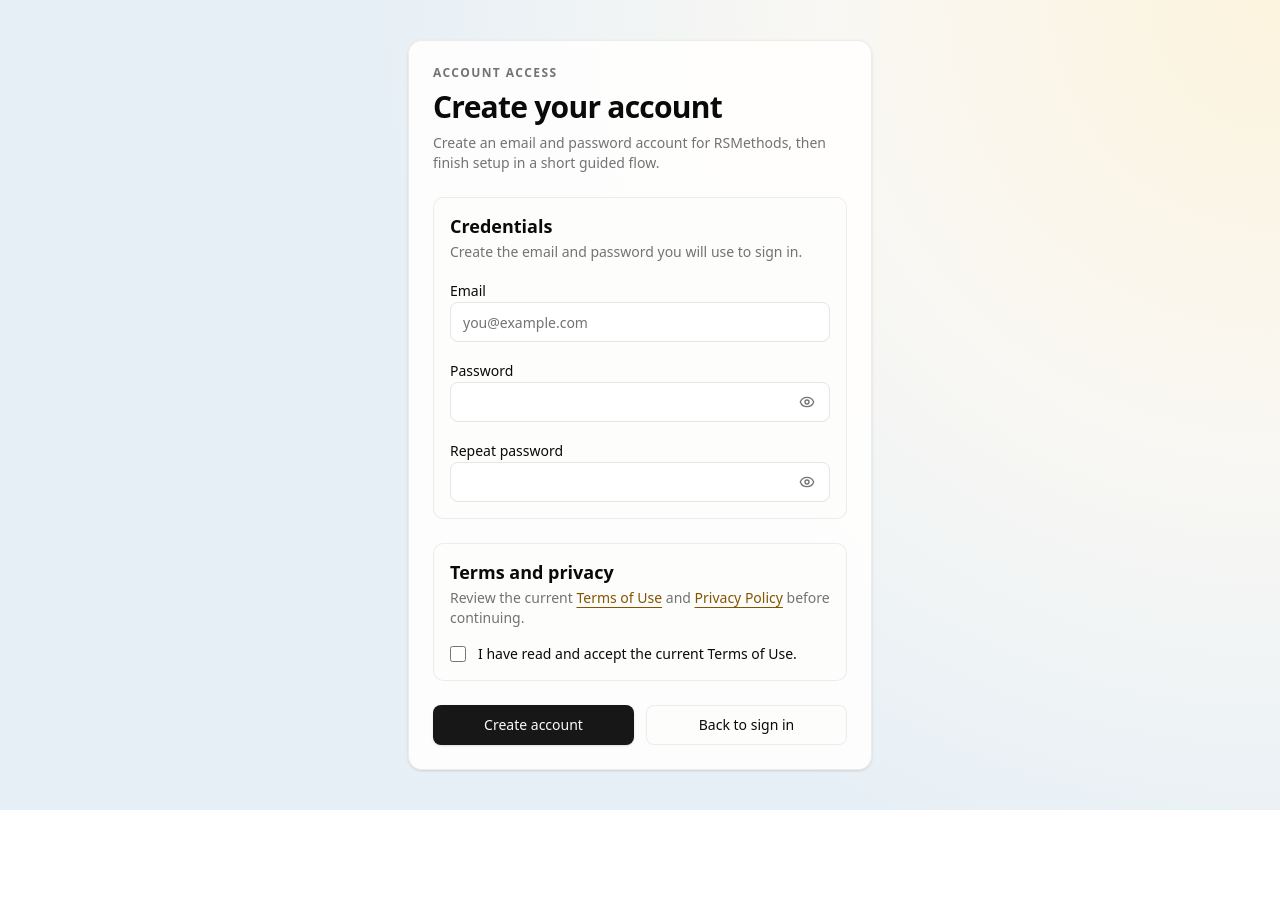
Scenario: CreateAccountPage › shows an email confirmation message when signup requires confirmation
Type "user@example.com" into the field labelled "Email". click: {"x": 640, "y": 322}
box: [450,302,830,342]
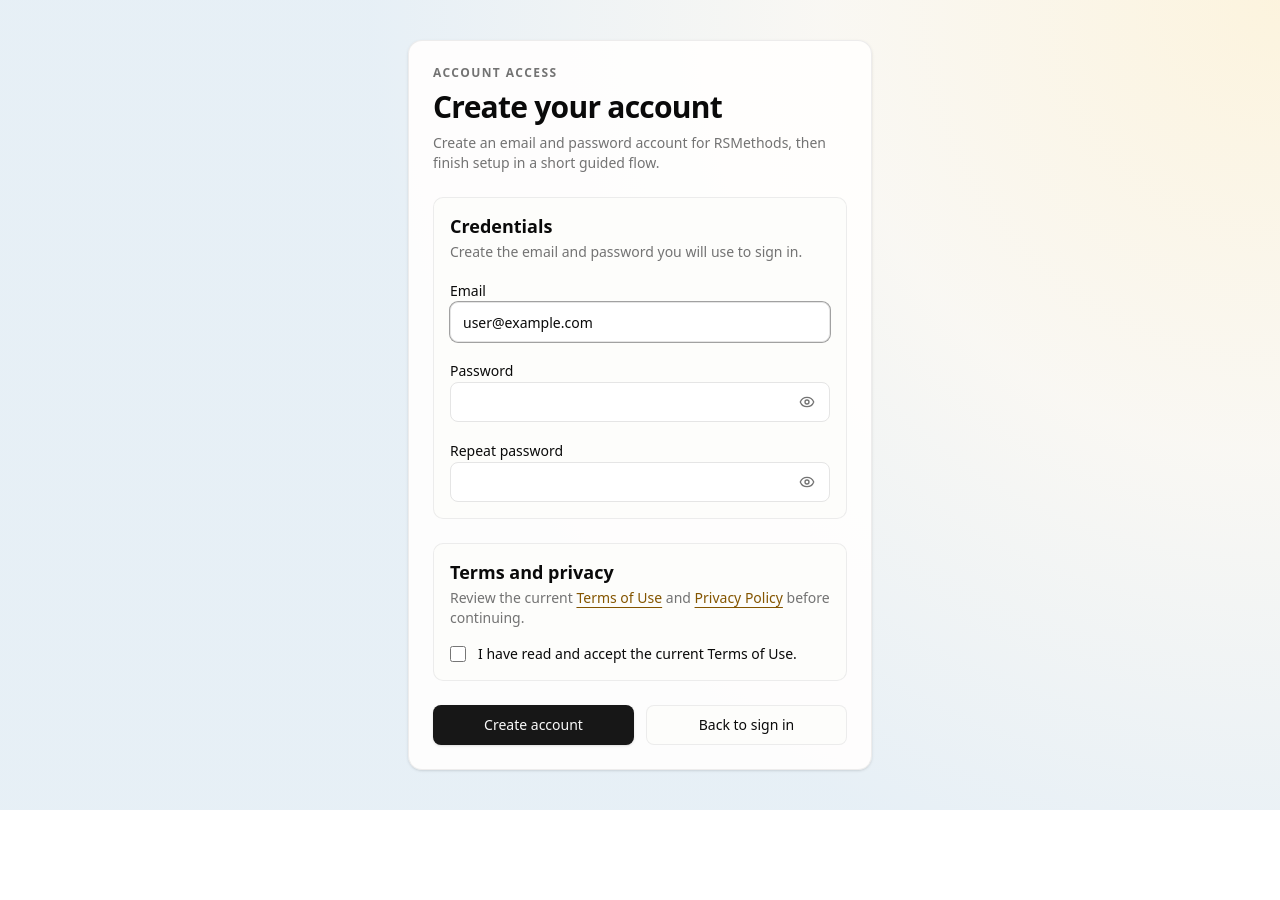
Type "password123" into the password field labelled "Password". click: {"x": 621, "y": 402}
box: [451,382,791,422]
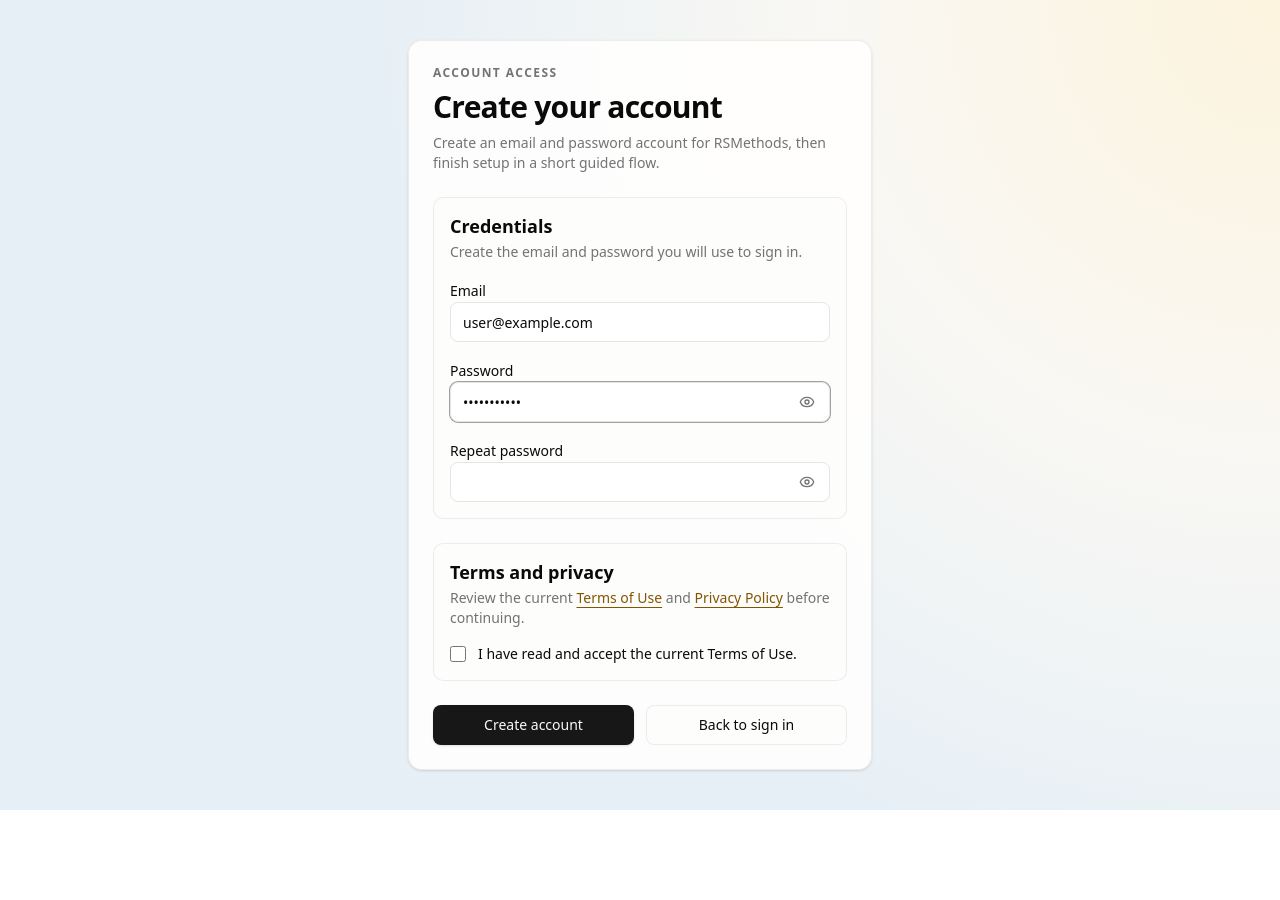
Type "password123" into the password field labelled "Repeat password". click: {"x": 621, "y": 482}
box: [451,462,791,502]
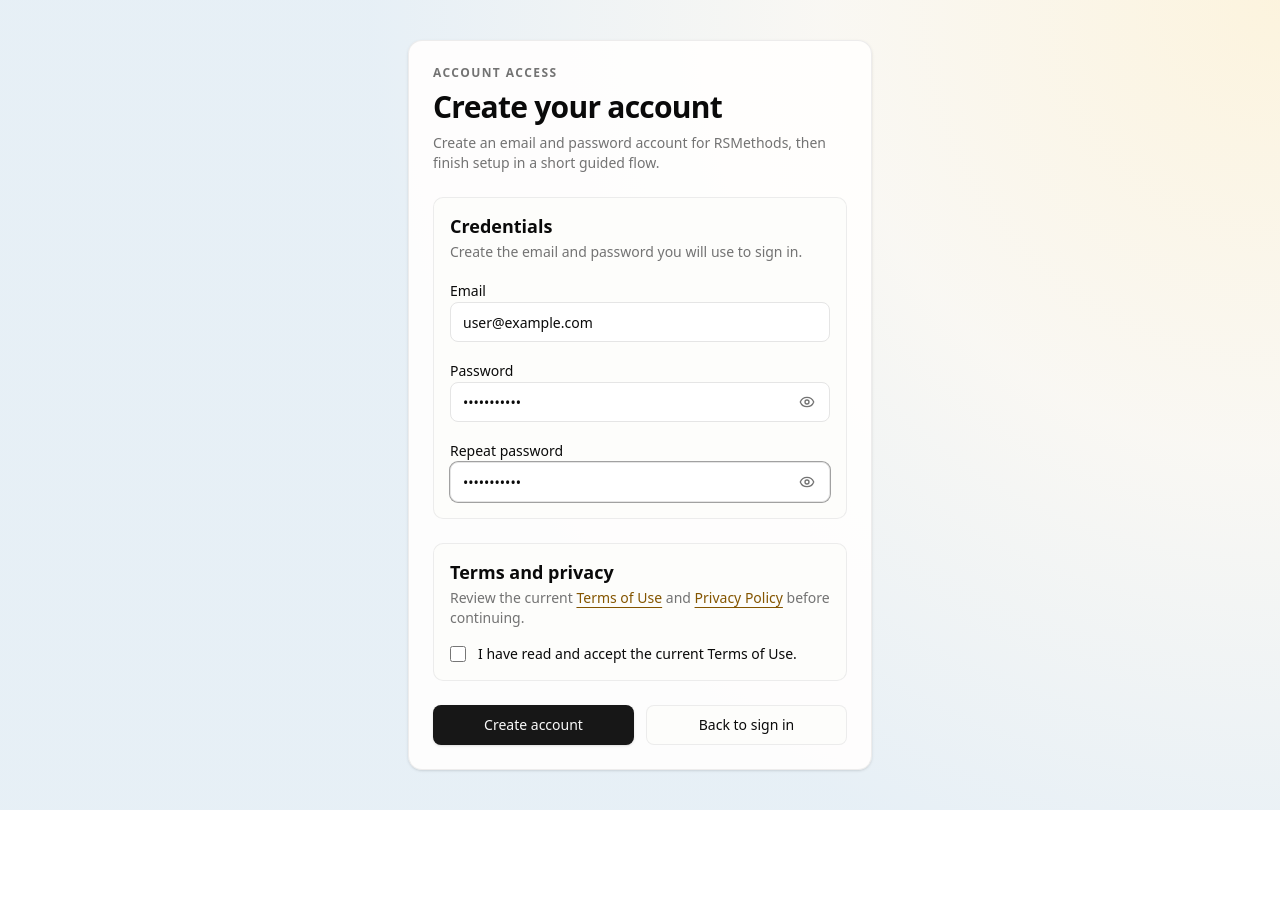
Click the checkbox labelled "I have read and accept the current Terms of Use.". click: {"x": 458, "y": 654}
box: [450,646,466,662]
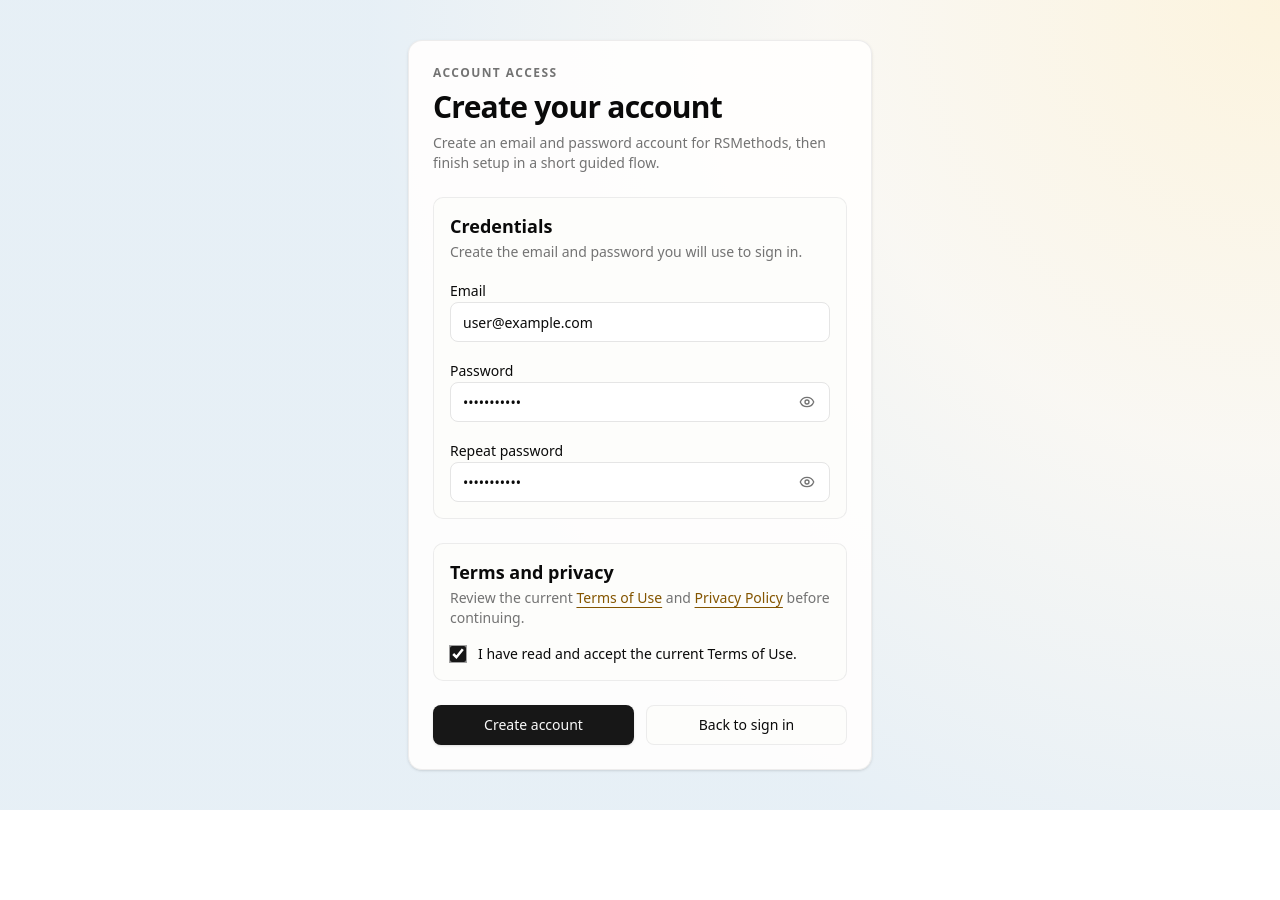
Click the button "Create account". click: {"x": 534, "y": 725}
box: [433,705,634,745]
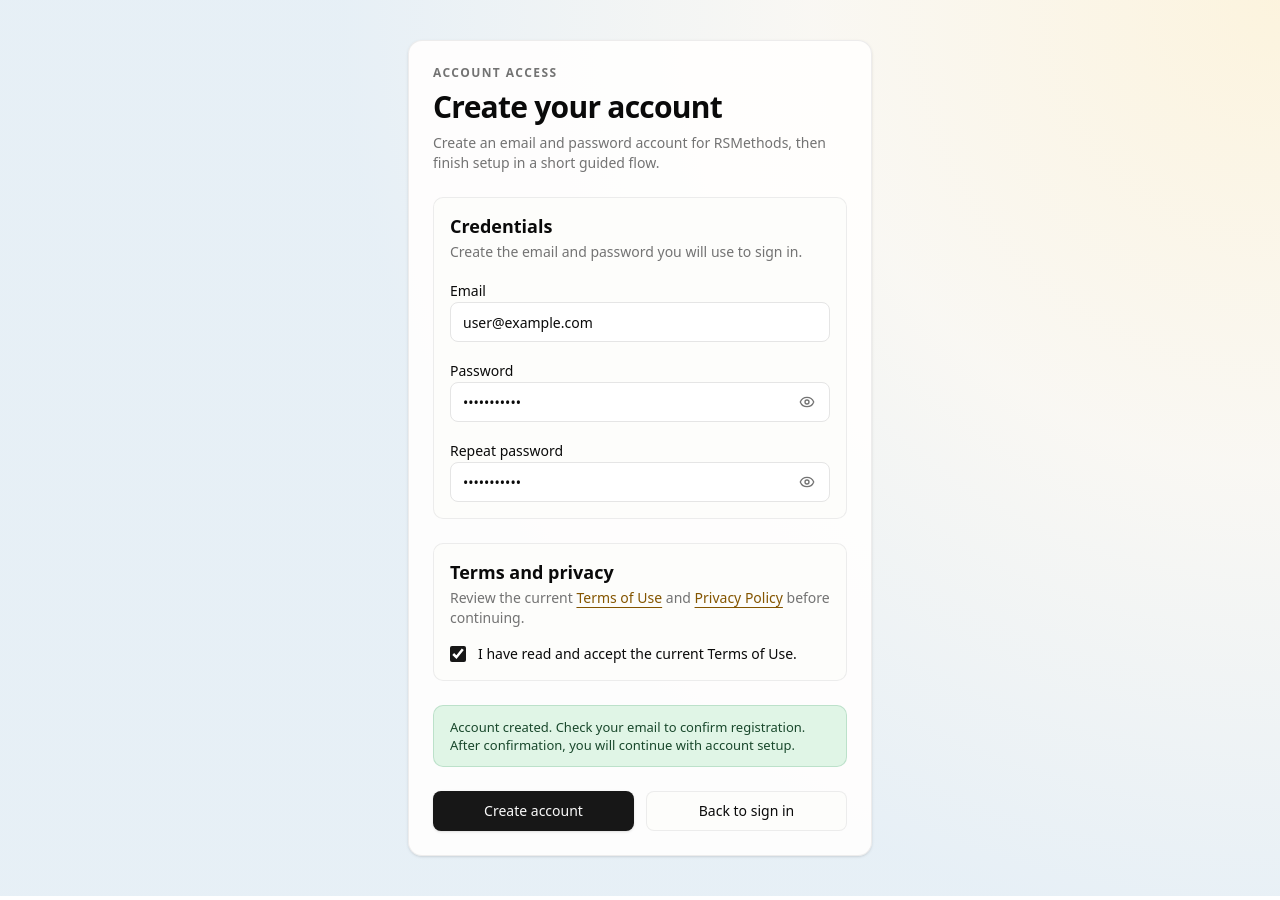
Result: the text "Account created. Check your email to confirm registration. After confirmation, you will continue with account setup." is shown at [450,718,805,754]
